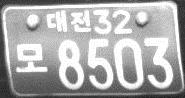0: (113, 37, 144, 91)
2: (111, 7, 133, 35)
3: (142, 36, 173, 89), (92, 8, 112, 35)
5: (86, 37, 114, 91)
8: (57, 38, 84, 90)
대전_O: (45, 9, 91, 33)
모: (13, 42, 49, 74)
